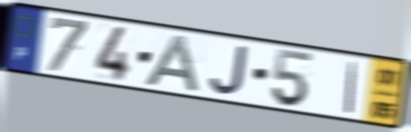4: (92, 23, 133, 84)
5: (269, 46, 316, 110)
7: (45, 15, 90, 73)
A: (142, 32, 203, 95)
I: (342, 59, 359, 116)
J: (208, 43, 251, 97)
